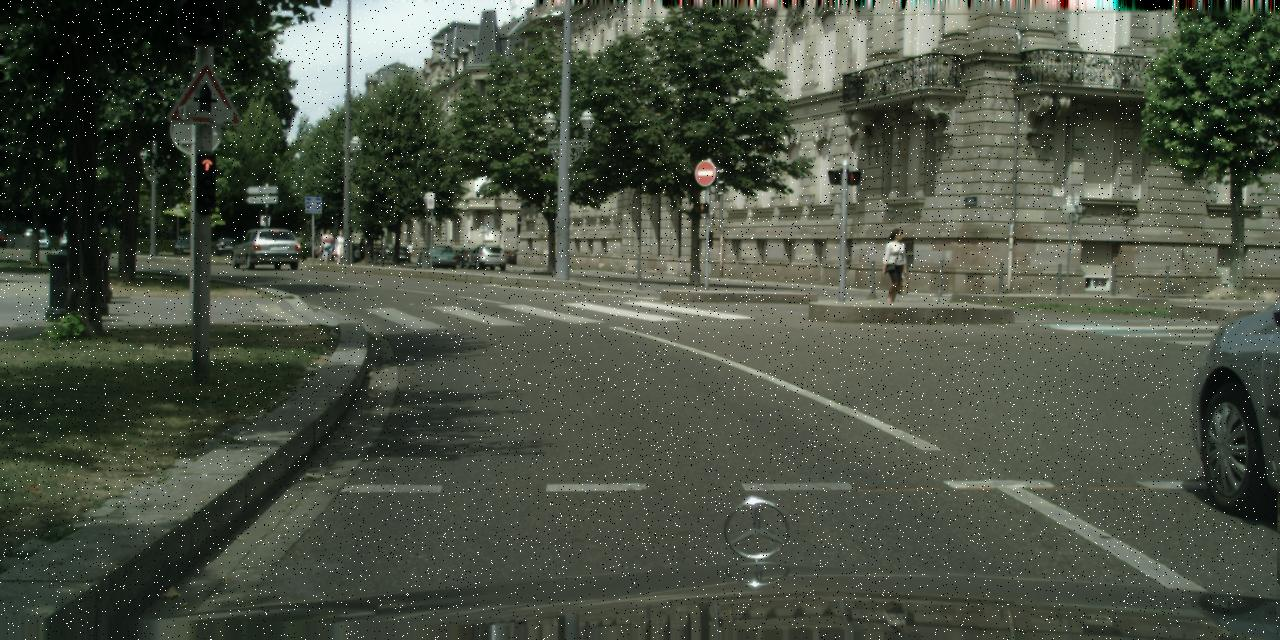ped: (880, 228, 909, 300), (332, 229, 347, 263), (321, 229, 333, 262)
